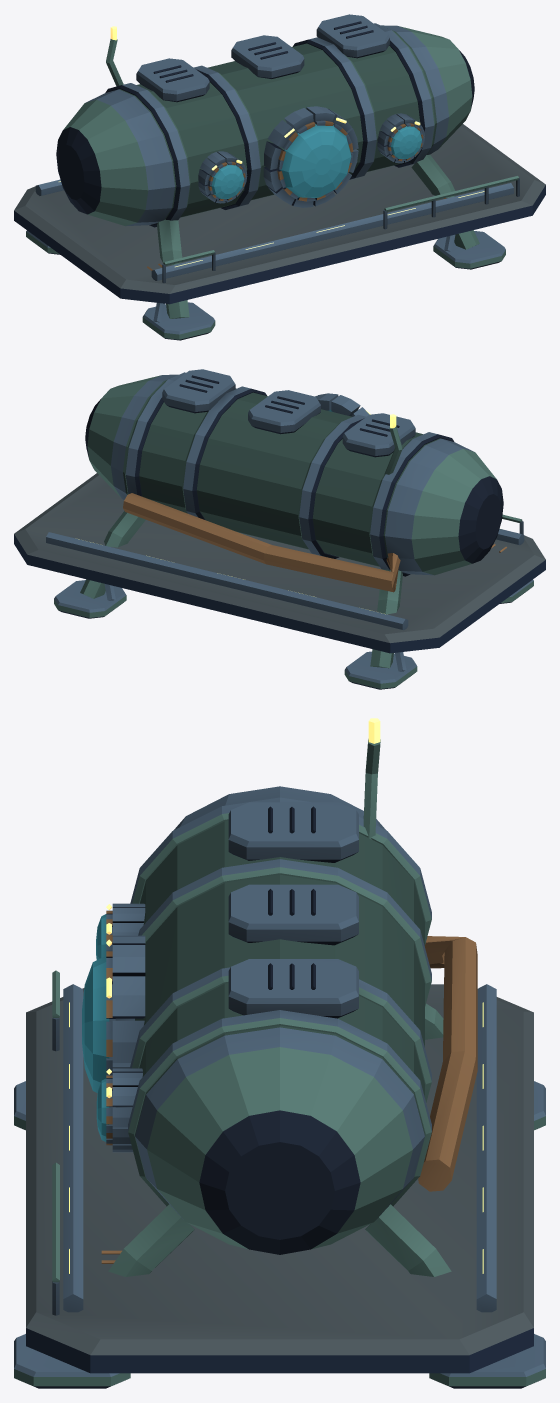
File: abyss-observatory.glb
The picture shows the model from 3 angles, top to bottom: view 1: azimuth 30°, elevation 25°; view 2: azimuth 150°, elevation 25°; view 3: azimuth 270°, elevation 25°; orthographic projection. The views are drawn at different scales.
Visible parts, largest first — view 1: abyss-observatory; view 2: abyss-observatory; view 3: abyss-observatory.
Part boxes in pixels (bbox=[...]): abyss-observatory: bbox=[14, 14, 545, 340]; abyss-observatory: bbox=[14, 369, 545, 689]; abyss-observatory: bbox=[14, 718, 545, 1388].
Size of the model in its own units: 10.2 by 5.31 by 6.2.
